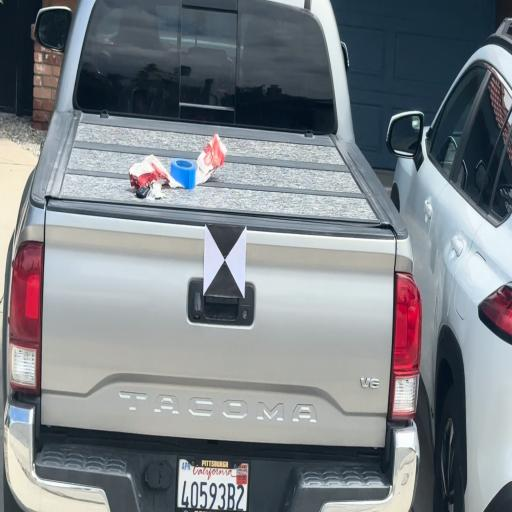target: (206, 224, 244, 297)
